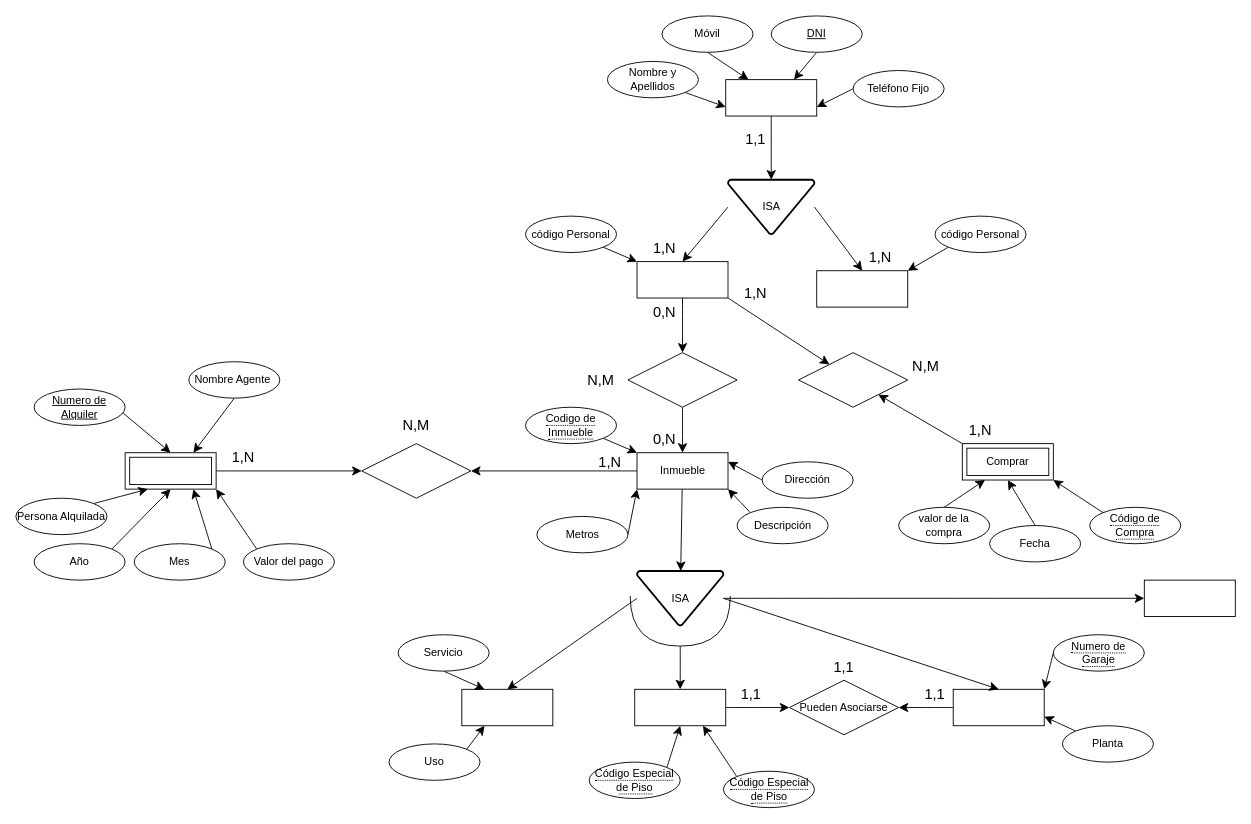
Some shapes in this 1251 by 824 pixel diagram are drawn without their labels. Here are the shapes that lost their labels. From the top down, the centre of each, then its label:
At (771,97): "persona".
At (682,279): "Clientes".
At (862,288): "Trabajadores".
At (682,379): "Compran".
At (853,379): "Pueden".
At (170,470): "Alquilar".
At (416,470): "Se puede".
At (1189,598): "Otros Inmuebles".
At (507,707): "Local".
At (680,707): "Piso".
At (998,707): "Garaje".
